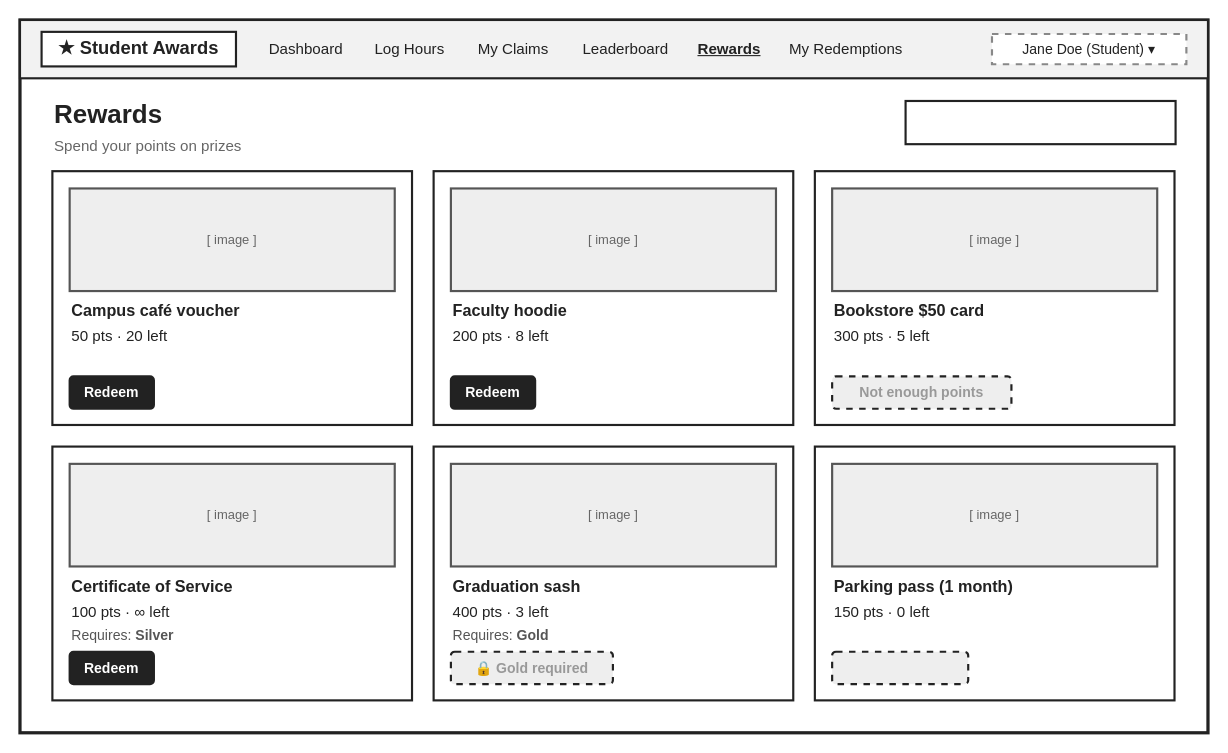
This 1228x753 diagram has some shape labels left out. The centre of each missing label's shape, as x and y in pixels:
"Balance: 250 pts · Silver" goes at point (1040, 122).
"Out of stock" goes at point (900, 667).
